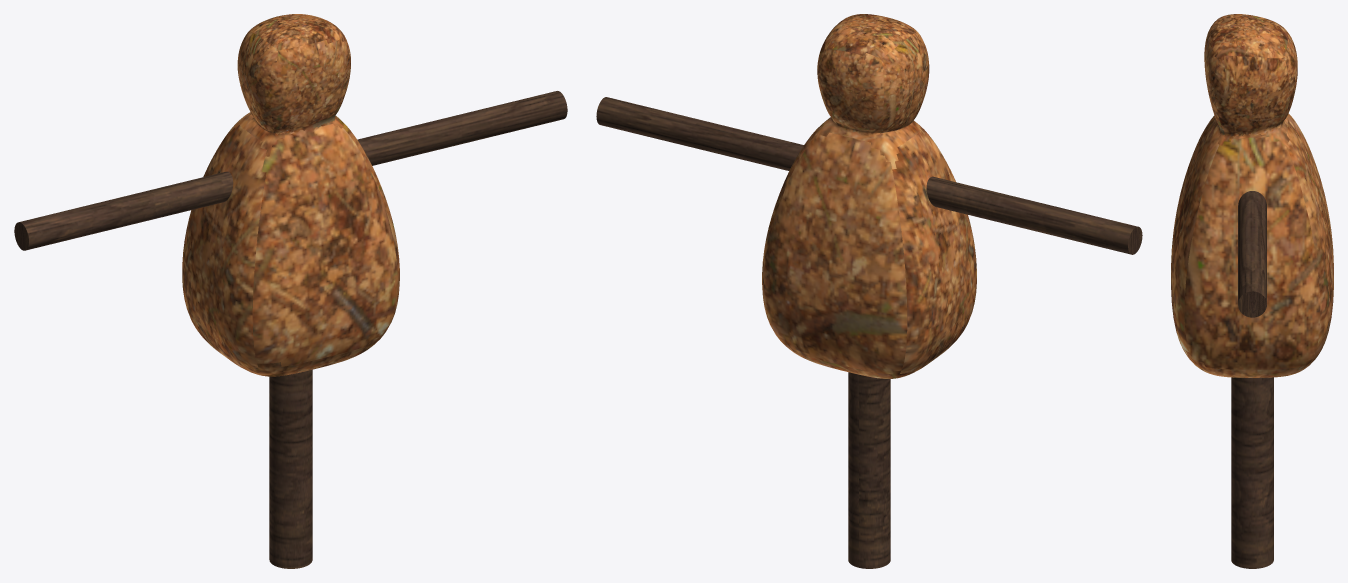
File: target dummy one obj.fbx
The picture shows the model from 3 angles, left to right: view 1: azimuth 30°, elevation 25°; view 2: azimuth 150°, elevation 25°; view 3: azimuth 270°, elevation 25°; orthographic projection.
Visible parts, largest first — view 1: Cube; view 2: Cube; view 3: Cube.
Part boxes in pixels (<box>): Cube: <box>14,14,567,568</box>; Cube: <box>596,14,1142,568</box>; Cube: <box>1171,14,1333,568</box>.
Bounding box in the file's own units: 1.79 × 1.72 × 0.4744.
